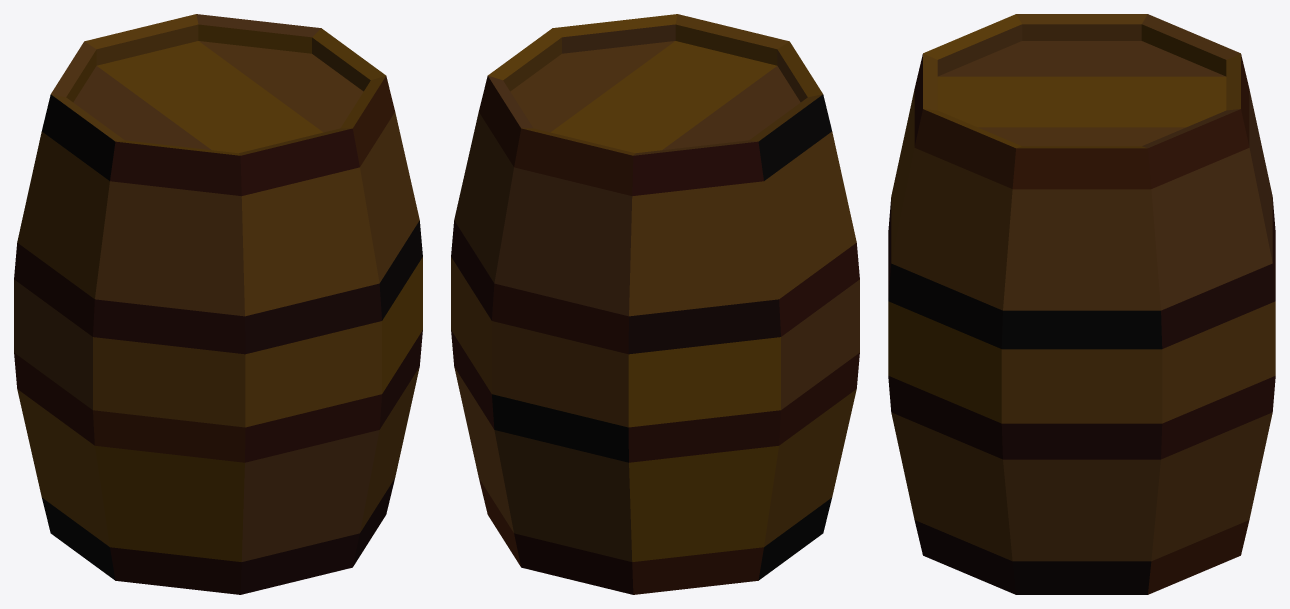
The model's file is BarrelClosedDarker.glb.
The picture shows the model from 3 angles, left to right: view 1: azimuth 30°, elevation 25°; view 2: azimuth 150°, elevation 25°; view 3: azimuth 270°, elevation 25°; orthographic projection.
Visible parts, largest first — view 1: BarrelClosedDarker; view 2: BarrelClosedDarker; view 3: BarrelClosedDarker.
Boxes of the visible parts, box(x1,y1,x2,y2) form: BarrelClosedDarker: box(14, 14, 422, 594); BarrelClosedDarker: box(451, 14, 859, 594); BarrelClosedDarker: box(888, 14, 1275, 594).
Size of the model in its own units: 0.5505 by 0.7 by 0.5505.
